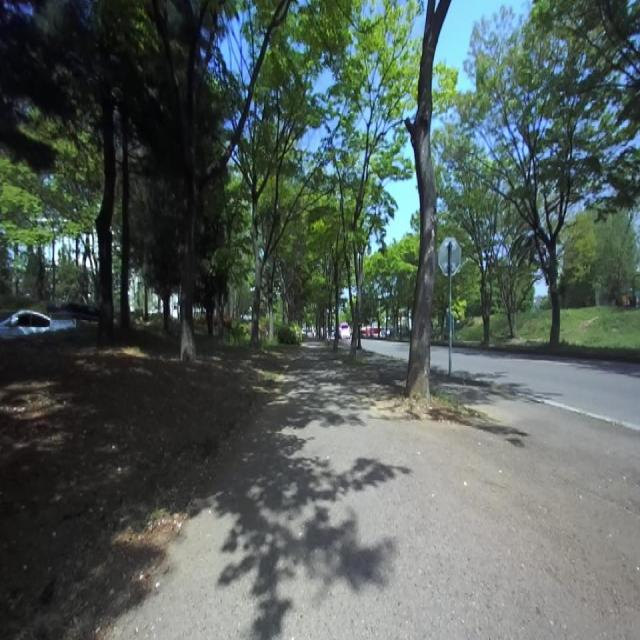sidewalk: (112, 343, 640, 639)
